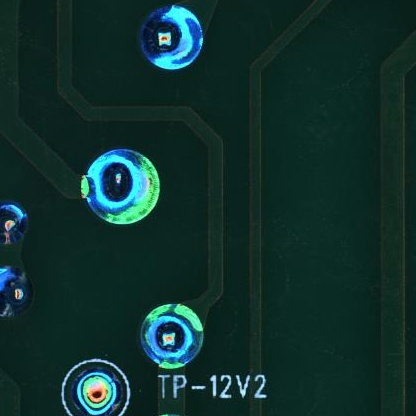spot: (82, 148, 162, 225), (138, 304, 205, 369), (140, 6, 205, 71), (71, 368, 121, 416), (1, 264, 33, 321), (2, 199, 28, 248)
